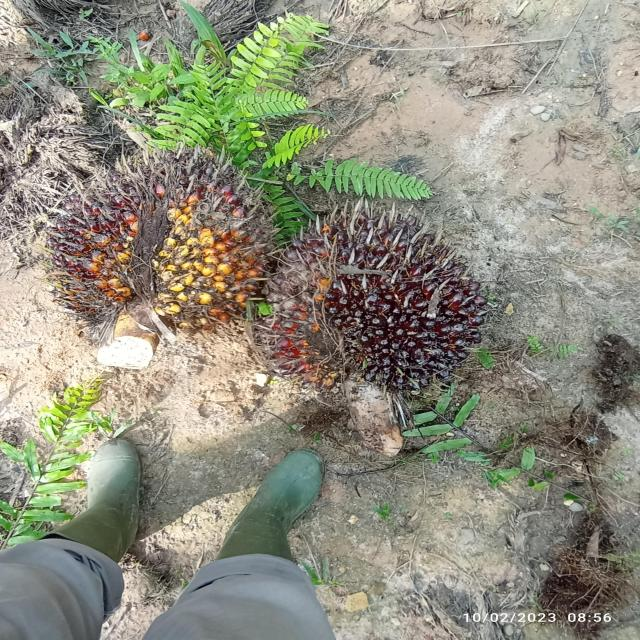fraksi 00: (270, 185, 478, 419)
fraksi 1: (22, 116, 266, 398)
